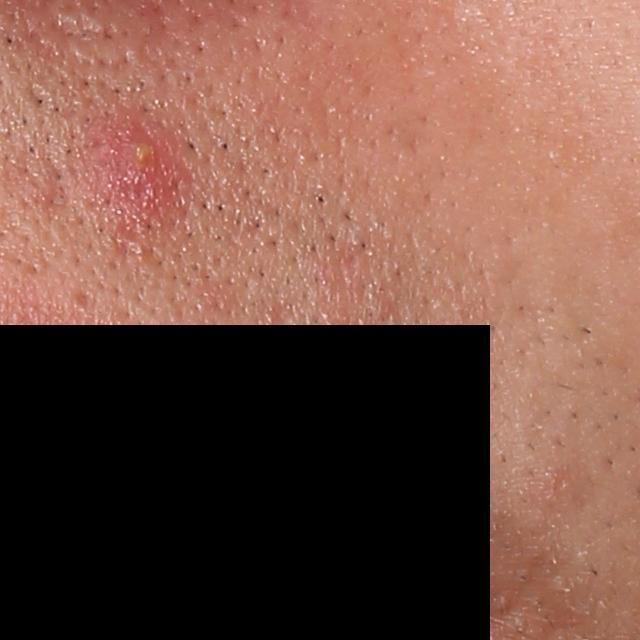pustule: (94, 125, 179, 215)
